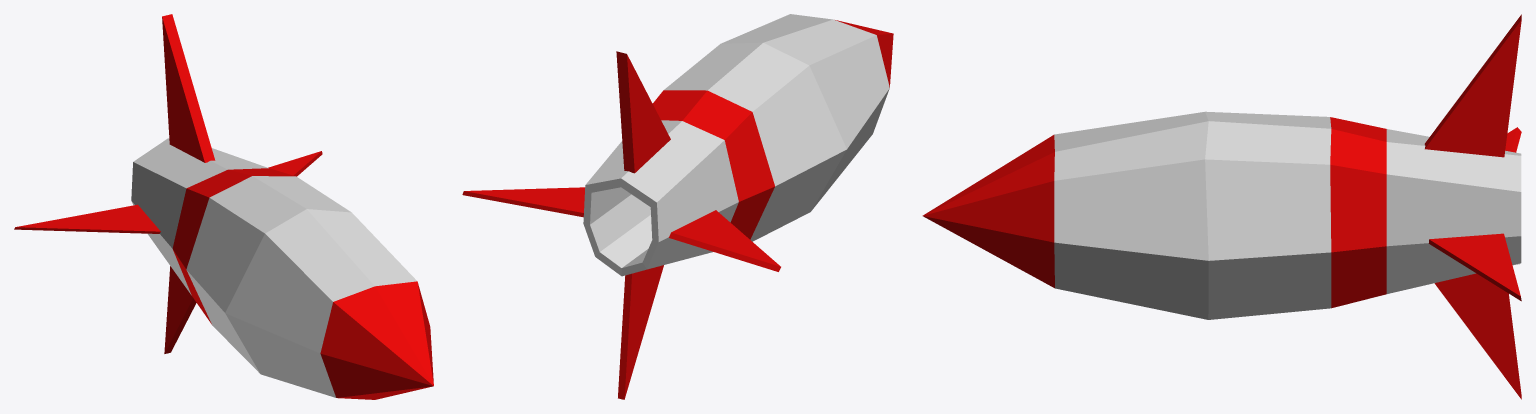
The model's file is Rocket.fbx.
3 views of the same model, side by side, from view 1: azimuth 30°, elevation 25°; view 2: azimuth 150°, elevation 25°; view 3: azimuth 270°, elevation 25° (orthographic). The views are drawn at different scales.
Parts seen in each view (by area): view 1: Rocket Body, Vertical Wings, Side Wings; view 2: Rocket Body, Vertical Wings, Side Wings; view 3: Rocket Body, Vertical Wings, Side Wings.
Part boxes in pixels (left/top/right/bottom): Rocket Body: left=131, top=138, right=433, bottom=399; Vertical Wings: left=162, top=14, right=215, bottom=353; Side Wings: left=14, top=151, right=322, bottom=233; Rocket Body: left=583, top=14, right=893, bottom=276; Vertical Wings: left=616, top=51, right=670, bottom=399; Side Wings: left=462, top=187, right=780, bottom=271; Rocket Body: left=922, top=111, right=1521, bottom=319; Vertical Wings: left=1424, top=14, right=1521, bottom=399; Side Wings: left=1429, top=127, right=1521, bottom=301.
Bounding box in the file's own units: 134 × 140 × 200.
